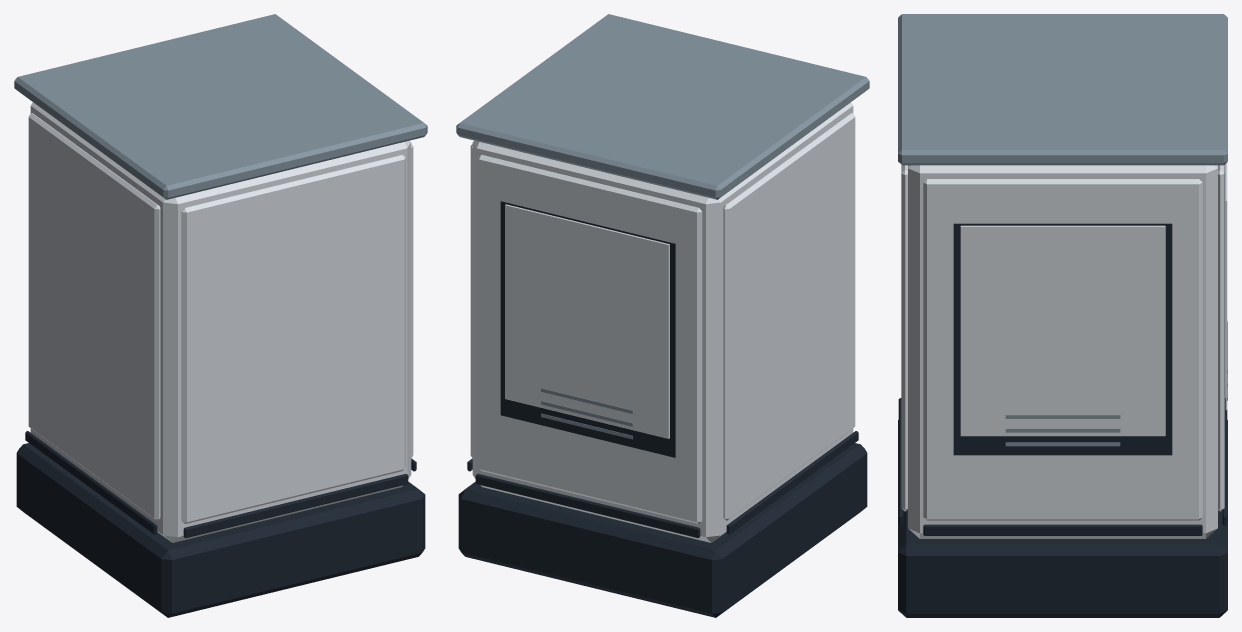
Rendered from WallCorner.fbx.
3 renders of one model, left to right at view 1: azimuth 30°, elevation 25°; view 2: azimuth 150°, elevation 25°; view 3: azimuth 270°, elevation 25°, orthographic. The views are drawn at different scales.
Visible parts, largest first — view 1: WallBody, Plinth; view 2: WallBody, Plinth; view 3: WallBody, Plinth.
Boxes of the visible parts, x1,y1,x2,y2 form: WallBody: (14,14,427,542); Plinth: (16,443,425,617); WallBody: (456,14,869,542); Plinth: (458,443,867,617); WallBody: (898,14,1227,538); Plinth: (898,420,1227,617).
Size of the model in its own units: 0.98 by 1.54 by 0.98.
